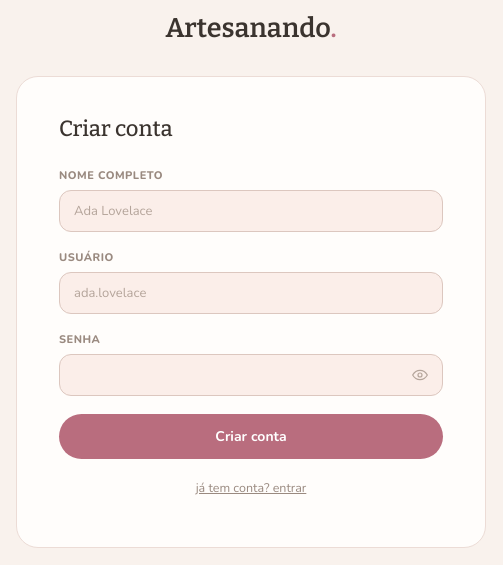
Test case: auth › o usuário digitado vira minúsculas e perde o que não cabe num email
Type "Ada Lovelace" into the field named "Usuário".
click(251, 293); type("Ada Lovelace")  # box [59, 272, 443, 314]
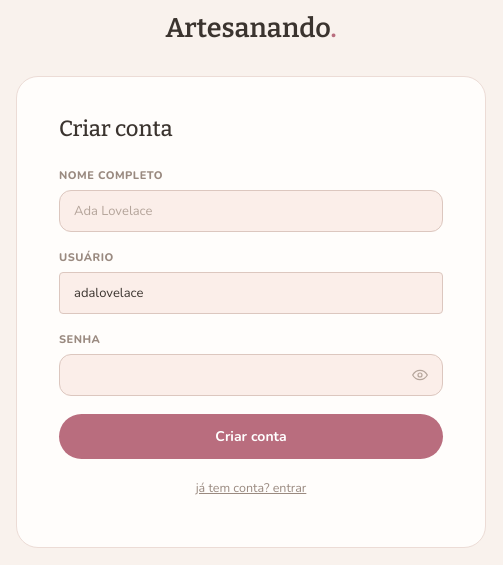
Check: the field named "Usuário" holds "adalovelace", box [59, 272, 443, 314]
